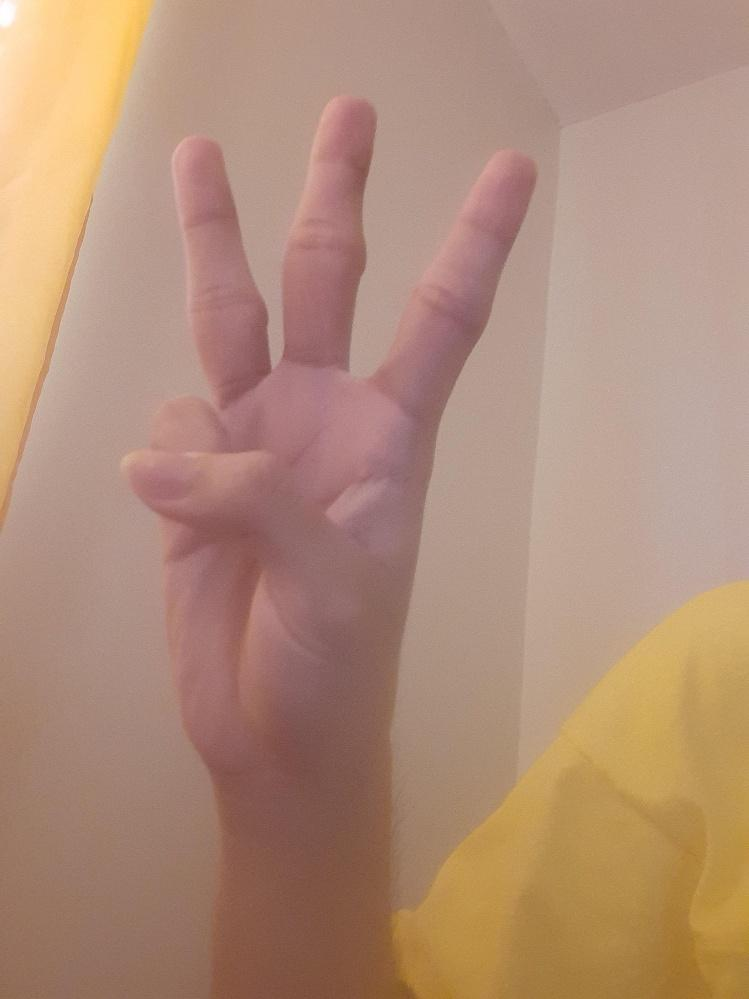w: (117, 92, 537, 738)
